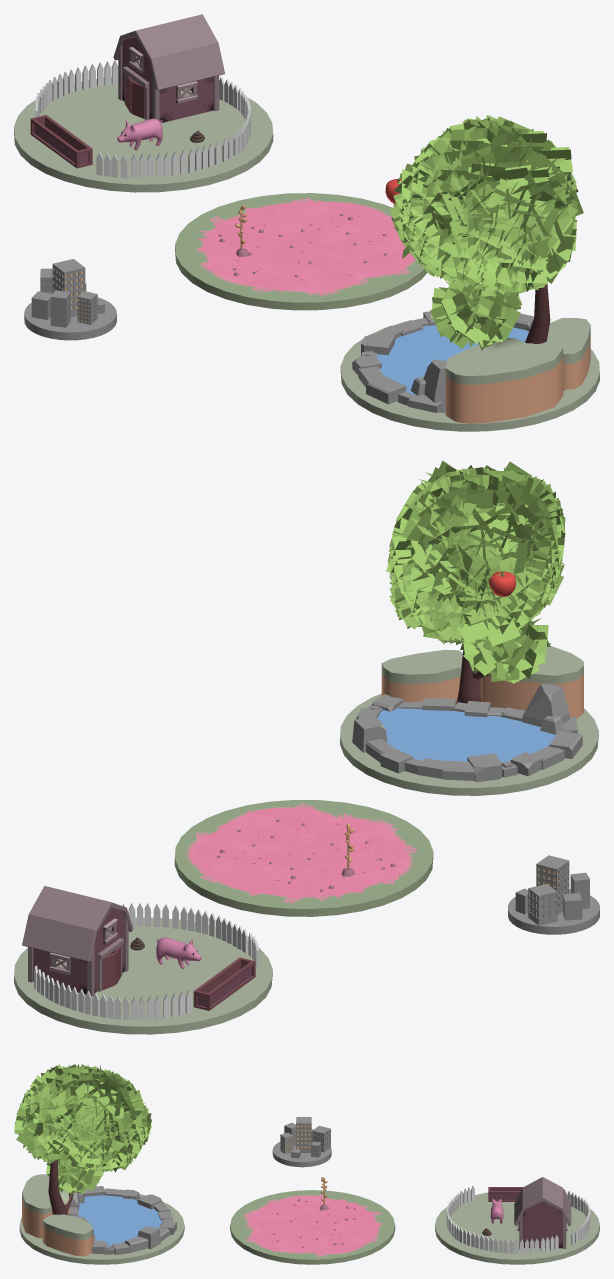
The model's file is allinone.fbx.
3 views of the same model, one above another, from view 1: azimuth 30°, elevation 25°; view 2: azimuth 150°, elevation 25°; view 3: azimuth 270°, elevation 25° (orthographic). The views are drawn at different scales.
Parts seen in each view (by area): view 1: leaf.001, Farm_Land_base, Land_base, bulwarks.003, Pool_mountain, bulwarks.1, City, Pool_Land_base, Pool_stone, leaf.003, Water, leaf.231 (+4 smaller); view 2: leaf.001, Farm_Land_base, Land_base, Pool_stone, bulwarks.003, Water, bulwarks.1, Pool_Land_base, City, leaf.231, Pool_mountain.001, Pool_mountain (+4 smaller); view 3: leaf.001, Farm_Land_base, Land_base, bulwarks.003, Water, Pool_stone, bulwarks.1, City, Pool_Land_base, Pool_mountain.001, Pool_mountain, leaf.231 (+3 smaller).
Part boxes in pixels (<box>): leaf.001: <box>389,115,583,294</box>; Farm_Land_base: <box>175,193,427,310</box>; Land_base: <box>14,77,273,192</box>; bulwarks.003: <box>113,14,224,123</box>; Pool_mountain: <box>445,338,563,423</box>; bulwarks.1: <box>35,60,250,178</box>; City: <box>24,259,116,340</box>; Pool_Land_base: <box>340,318,599,431</box>; Pool_stone: <box>352,311,534,412</box>; leaf.003: <box>430,280,522,350</box>; Water: <box>377,325,528,394</box>; leaf.231: <box>390,115,578,294</box>; leaf.001: <box>386,460,565,646</box>; Farm_Land_base: <box>174,799,433,916</box>; Land_base: <box>14,917,272,1034</box>; Pool_stone: <box>352,683,582,782</box>; bulwarks.003: <box>22,886,133,996</box>; Water: <box>377,707,562,762</box>; bulwarks.1: <box>34,903,258,1020</box>; Pool_Land_base: <box>340,693,598,795</box>; City: <box>508,855,599,934</box>; leaf.231: <box>387,463,564,645</box>; Pool_mountain.001: <box>381,649,462,704</box>; Pool_mountain: <box>480,645,583,719</box>; leaf.001: <box>14,1064,151,1172</box>; Farm_Land_base: <box>230,1190,395,1264</box>; Land_base: <box>435,1192,599,1264</box>; bulwarks.003: <box>514,1177,571,1248</box>; Water: <box>78,1195,163,1245</box>; Pool_stone: <box>69,1186,176,1254</box>; bulwarks.1: <box>446,1186,590,1253</box>; City: <box>272,1117,331,1167</box>; Pool_Land_base: <box>19,1194,184,1264</box>; Pool_mountain.001: <box>42,1214,93,1256</box>; Pool_mountain: <box>22,1174,69,1238</box>; leaf.231: <box>15,1066,151,1170</box>.
Size of the model in its own units: 79 by 48.92 by 160.
